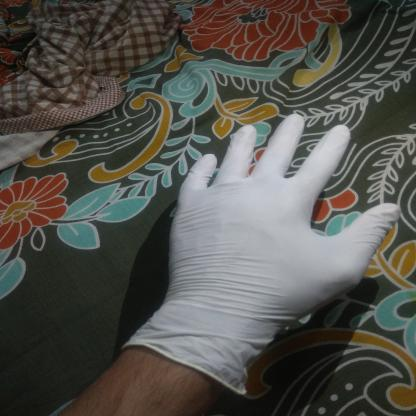gloved_hand: (119, 111, 401, 397)
